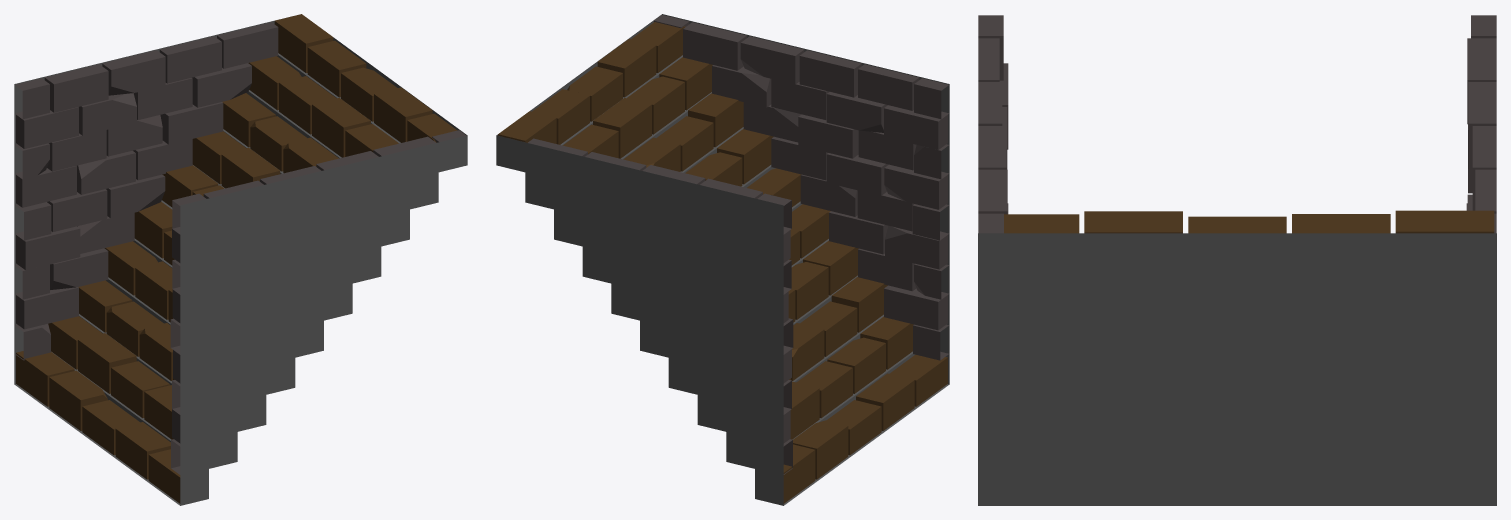
File: tile_stairs.fbx
3 renders of one model, left to right at view 1: azimuth 30°, elevation 25°; view 2: azimuth 150°, elevation 25°; view 3: azimuth 270°, elevation 25°, orthographic. The views are drawn at different scales.
Visible parts, largest first — view 1: Plane.001, Plane, Cube.105, Cube.107, Cube.106, Cube.035, Cube.036, Cube.108, Cube.116, Cube.003, Cube.112, Cube.133 (+48 smaller); view 2: Plane.002, Plane, Cube.055, Cube.053, Cube.054, Cube.096, Cube.068, Cube.003, Cube.052, Cube.081, Cube.021, Plane.001 (+48 smaller); view 3: Plane, Cube.020, Cube.021, Cube.024, Cube.023, Cube.022, Cube.107, Cube.105, Cube.055, Cube.053, Cube.106, Cube.054 (+4 smaller).
Boxes of the visible parts, bbox=[...] form: Plane.001: bbox=[180, 135, 467, 505]; Plane: bbox=[15, 37, 466, 505]; Cube.105: bbox=[44, 64, 108, 112]; Cube.107: bbox=[102, 50, 165, 95]; Cube.106: bbox=[159, 36, 221, 83]; Cube.035: bbox=[49, 370, 107, 430]; Cube.036: bbox=[78, 333, 136, 393]; Cube.108: bbox=[217, 22, 278, 68]; Cube.116: bbox=[16, 226, 80, 270]; Cube.003: bbox=[312, 98, 370, 157]; Cube.112: bbox=[16, 287, 78, 329]; Cube.133: bbox=[160, 102, 223, 144]; Plane.002: bbox=[496, 135, 783, 505]; Plane: bbox=[497, 14, 948, 505]; Cube.055: bbox=[683, 22, 746, 70]; Cube.053: bbox=[740, 36, 804, 84]; Cube.054: bbox=[799, 50, 861, 97]; Cube.096: bbox=[884, 285, 947, 330]; Cube.068: bbox=[884, 105, 947, 149]; Cube.003: bbox=[593, 98, 651, 158]; Cube.052: bbox=[858, 64, 919, 110]; Cube.081: bbox=[884, 164, 947, 209]; Cube.021: bbox=[597, 39, 656, 97]; Plane.001: bbox=[662, 14, 949, 384]; Plane: bbox=[978, 233, 1496, 505]; Cube.020: bbox=[1395, 210, 1494, 233]; Cube.021: bbox=[1084, 211, 1182, 233]; Cube.024: bbox=[1292, 214, 1390, 233]; Cube.023: bbox=[1188, 216, 1286, 233]; Cube.022: bbox=[1004, 214, 1079, 233]; Cube.107: bbox=[1468, 82, 1496, 168]; Cube.105: bbox=[1467, 38, 1496, 124]; Cube.055: bbox=[978, 169, 1007, 214]; Cube.053: bbox=[978, 126, 1006, 169]; Cube.106: bbox=[1472, 126, 1496, 210]; Cube.054: bbox=[978, 82, 1002, 125].
Size of the model in its own units: 1000 by 1000 by 1002.
